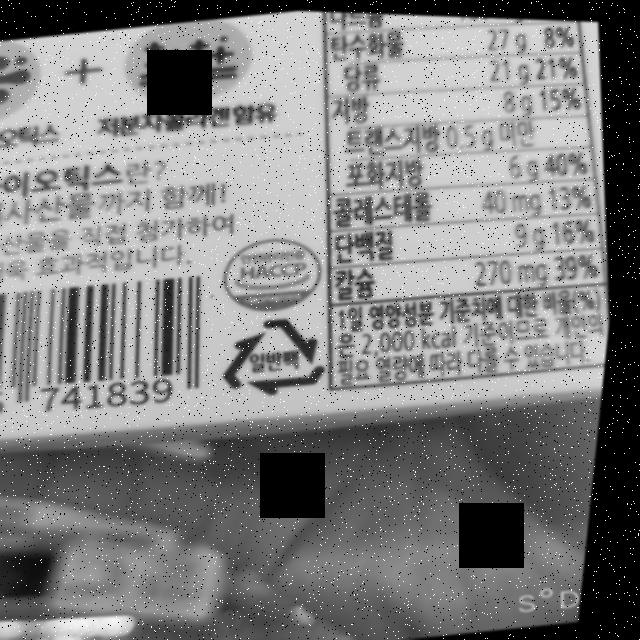NormalPack: (221, 304, 343, 403)
